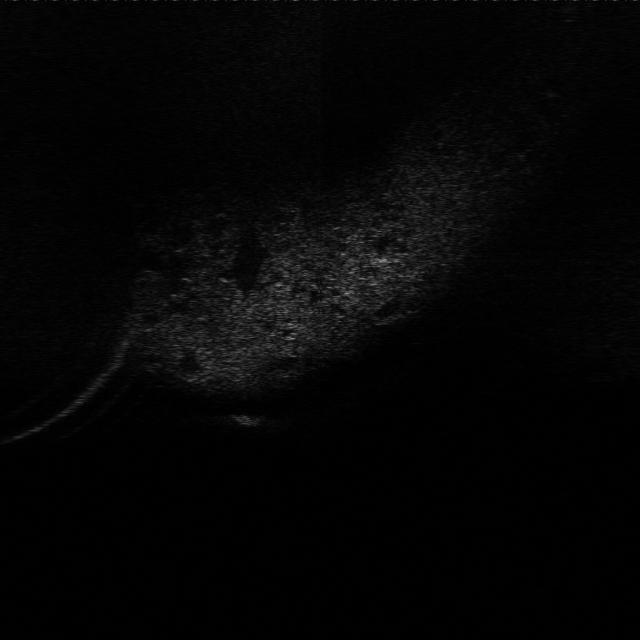cube: (232, 402, 269, 429)
